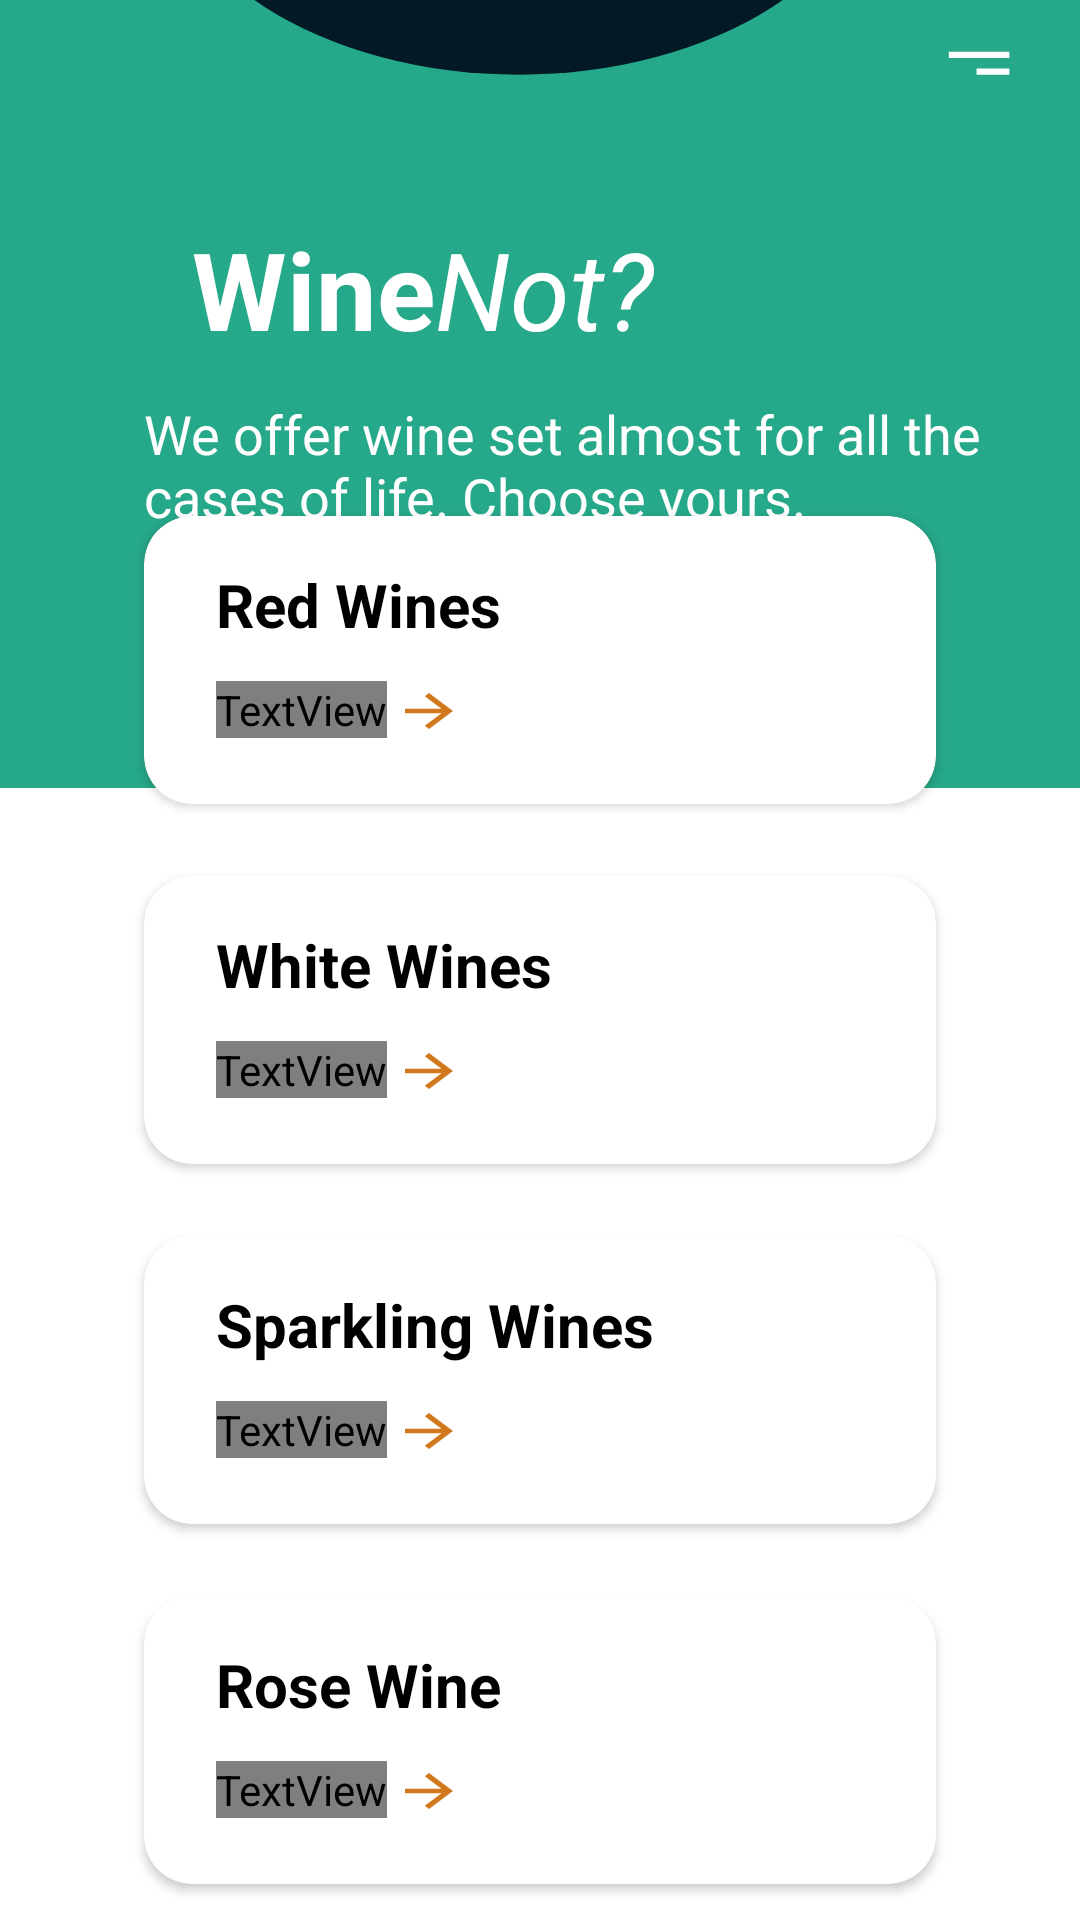

Icons on this 1080 × 1920 Android screen, each with its box as box(x1, y1, x2, y2):
arrow: box(405, 693, 453, 729), box(405, 1053, 453, 1089), box(405, 1413, 453, 1449), box(405, 1773, 453, 1809)
